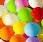Balloon: (24, 22, 41, 37), (19, 7, 33, 22), (1, 25, 13, 41), (3, 13, 18, 25), (13, 21, 25, 34), (32, 7, 43, 21)
